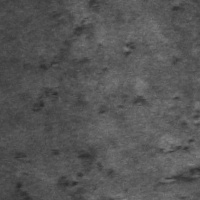rolled-in_scale: (25, 0, 115, 121), (146, 112, 199, 199), (50, 144, 120, 199)
